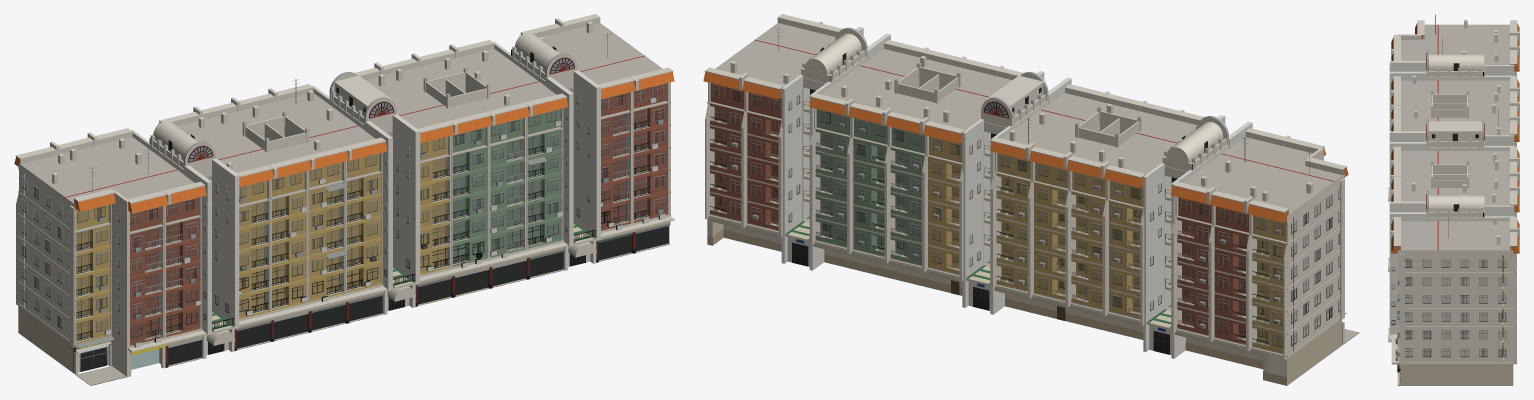
Rendered from SM_Estate_BACK.glb.
3 views of the same model, side by side, from view 1: azimuth 30°, elevation 25°; view 2: azimuth 150°, elevation 25°; view 3: azimuth 270°, elevation 25° (orthographic). The views are drawn at different scales.
Visible parts, largest first — view 1: SM_Estate_BACK_LM, SM_Estate_BACK_VC, SM_Estate_BACK_NB; view 2: SM_Estate_BACK_LM, SM_Estate_BACK_VC, SM_Estate_BACK_NB; view 3: SM_Estate_BACK_LM, SM_Estate_BACK_VC, SM_Estate_BACK_NB.
Part boxes in pixels (left/top/right/bottom): SM_Estate_BACK_LM: left=14, top=14, right=674, bottom=385; SM_Estate_BACK_VC: left=16, top=32, right=670, bottom=385; SM_Estate_BACK_NB: left=23, top=58, right=663, bottom=370; SM_Estate_BACK_LM: left=703, top=14, right=1359, bottom=385; SM_Estate_BACK_VC: left=707, top=27, right=1359, bottom=372; SM_Estate_BACK_NB: left=714, top=86, right=1339, bottom=345; SM_Estate_BACK_LM: left=1388, top=19, right=1519, bottom=385; SM_Estate_BACK_VC: left=1391, top=14, right=1517, bottom=385; SM_Estate_BACK_NB: left=1392, top=260, right=1505, bottom=355.
Size of the model in its own units: 78.9 by 25.74 by 19.38.
